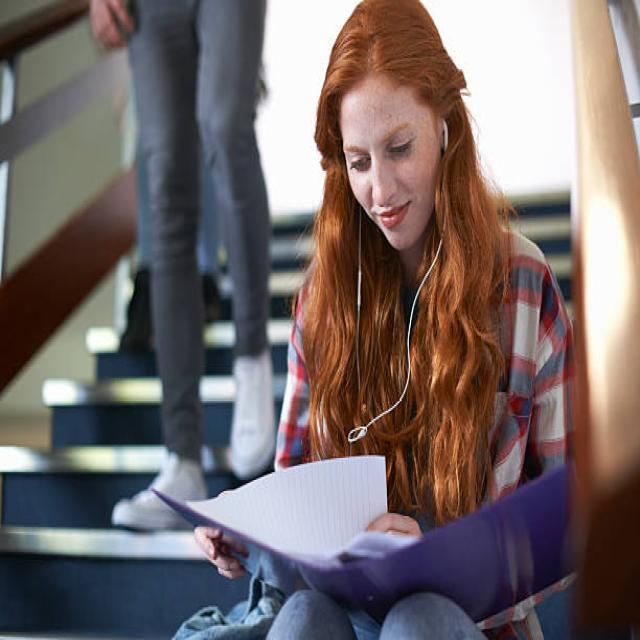Earphone: (346, 116, 450, 443)
